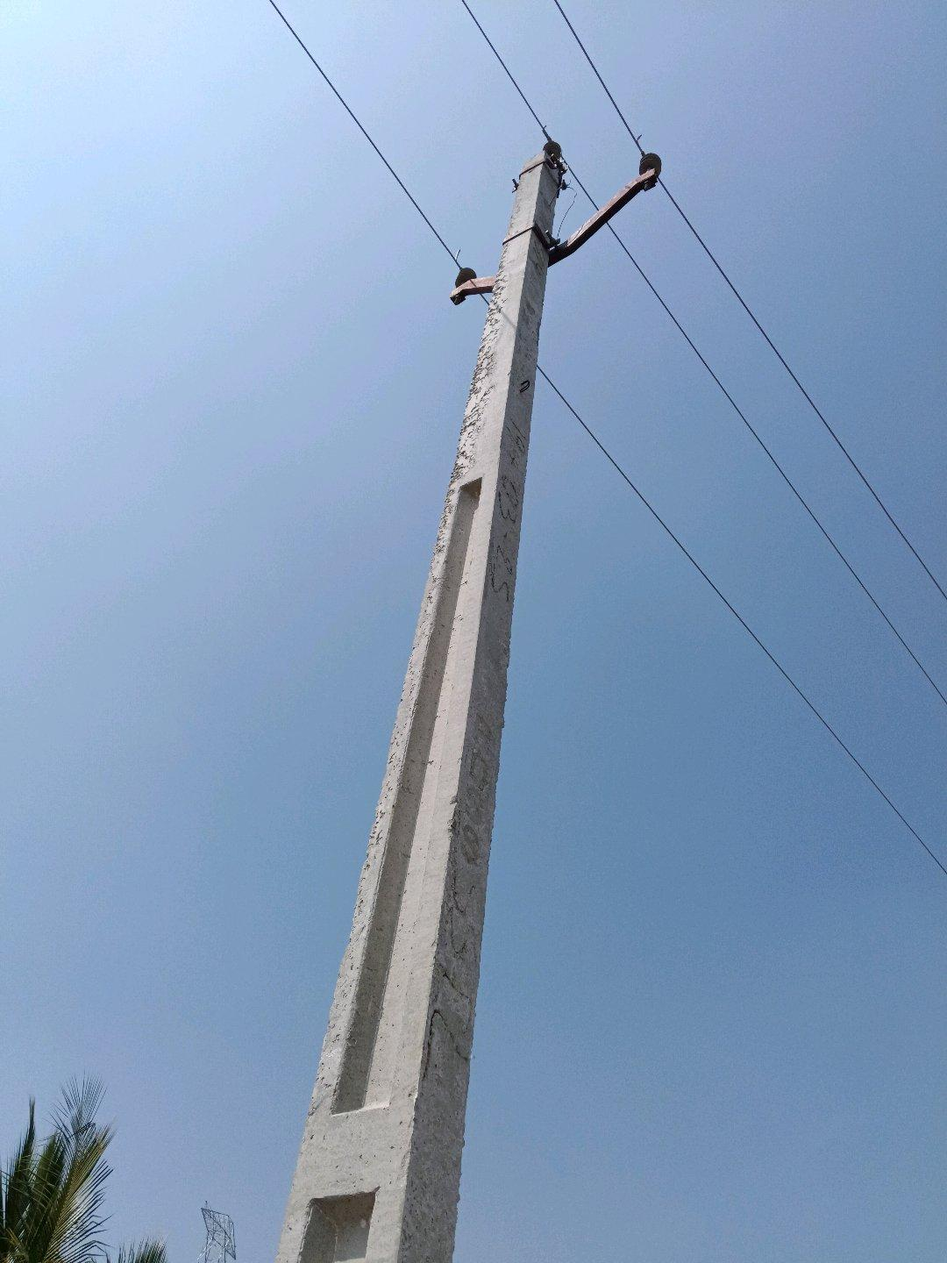{"0" "insulator", "1" "pole", "2" "crossarm", "3" "conductor", "4" "street_: (276, 141, 659, 1262)
